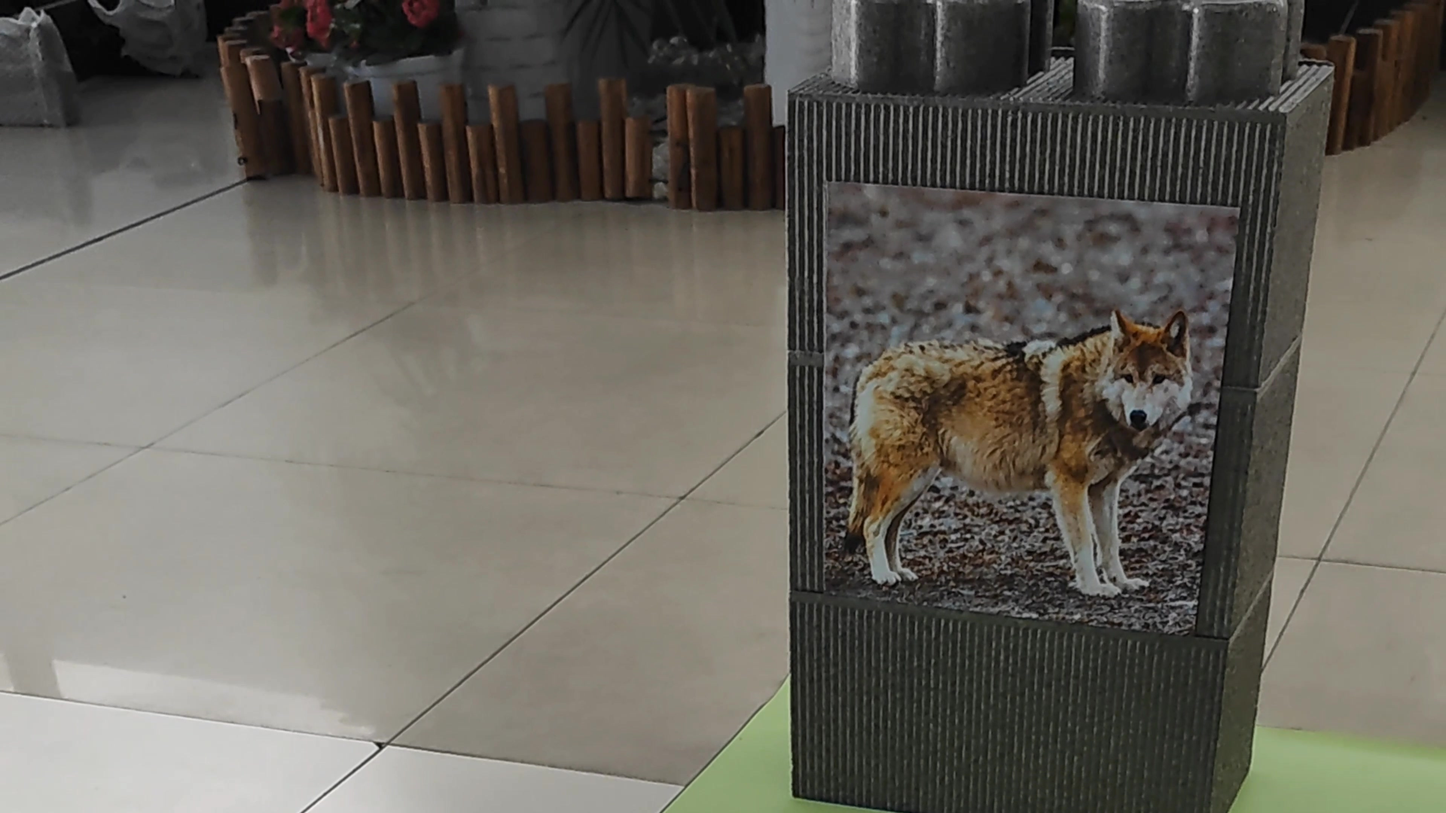wolf: (826, 276, 1194, 614)
